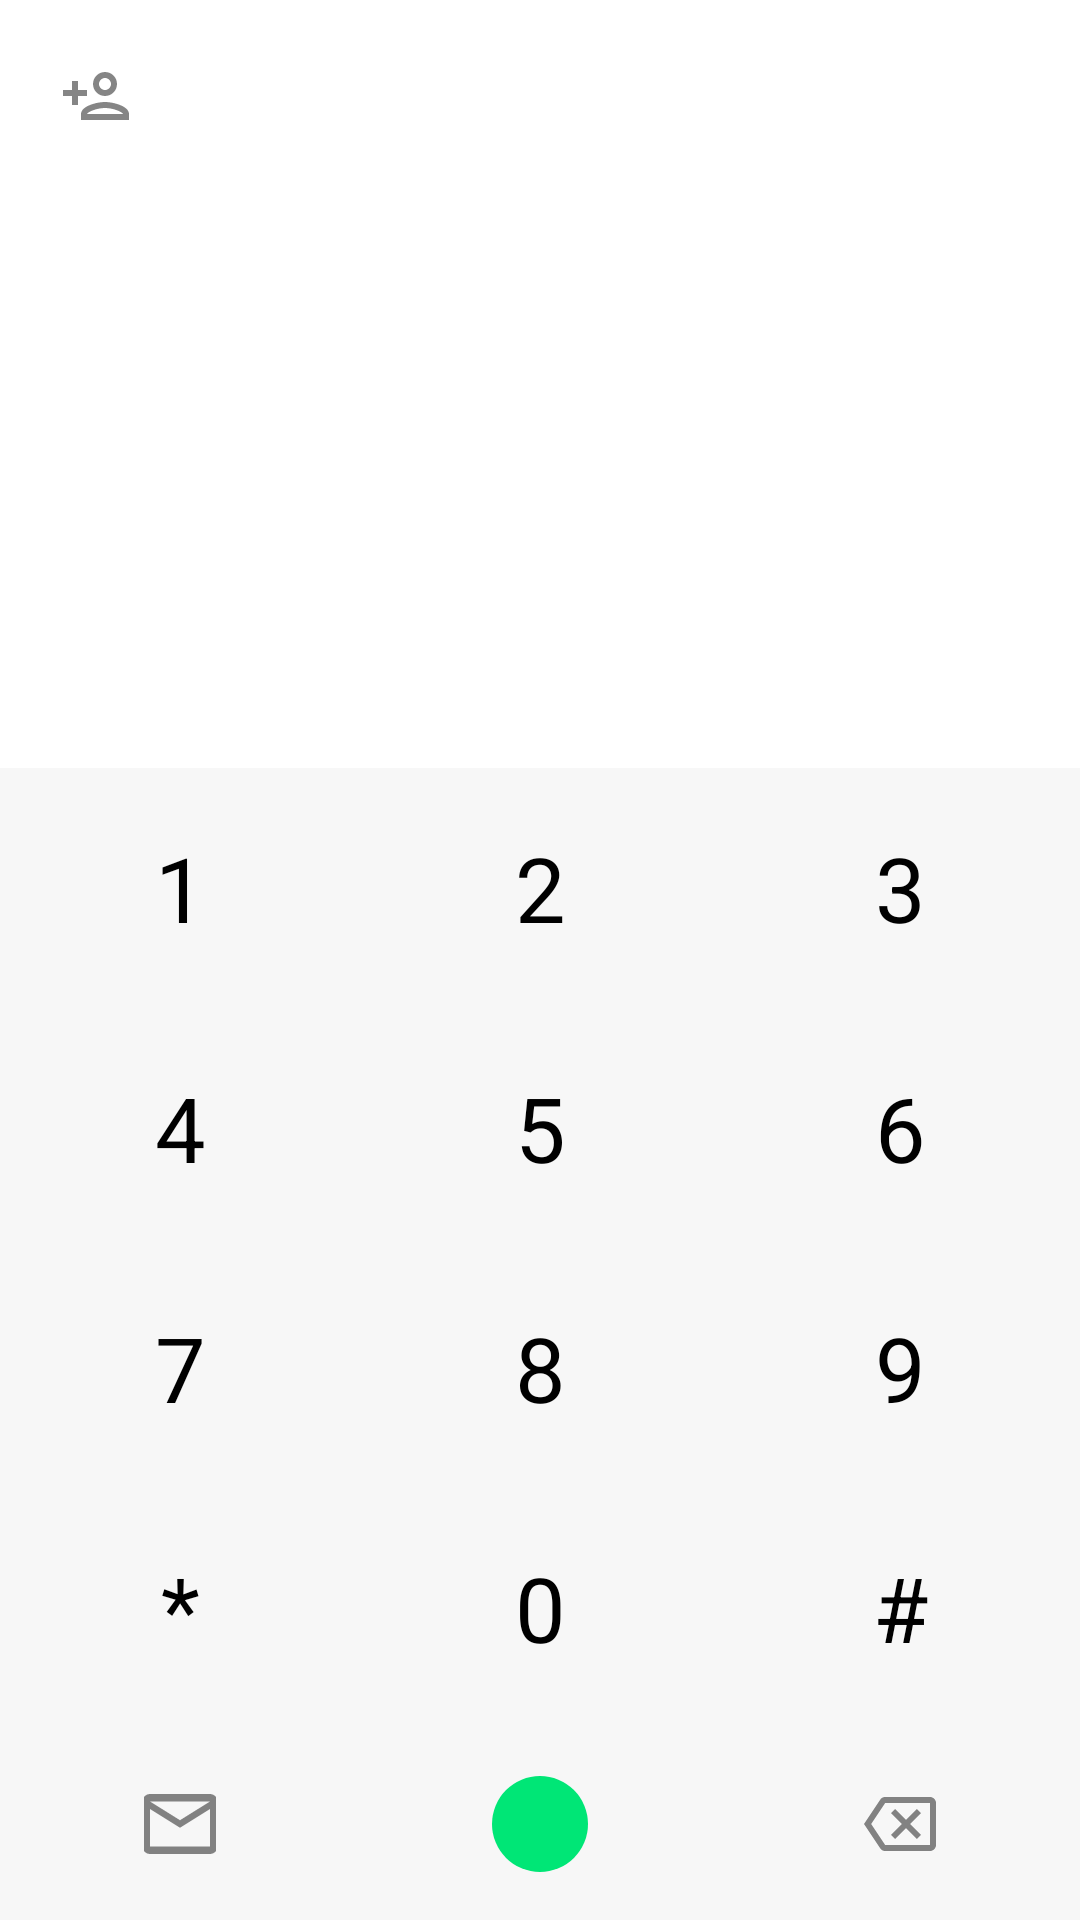

Locate icon controls on the screen. Image size 1080*1920, boxes as {"x1": x1, "y1": y1, "x2": x2, "y2": y2}.
add contact: {"x1": 63, "y1": 72, "x2": 129, "y2": 120}
backspace: {"x1": 864, "y1": 1797, "x2": 936, "y2": 1851}
message: {"x1": 144, "y1": 1794, "x2": 216, "y2": 1854}
